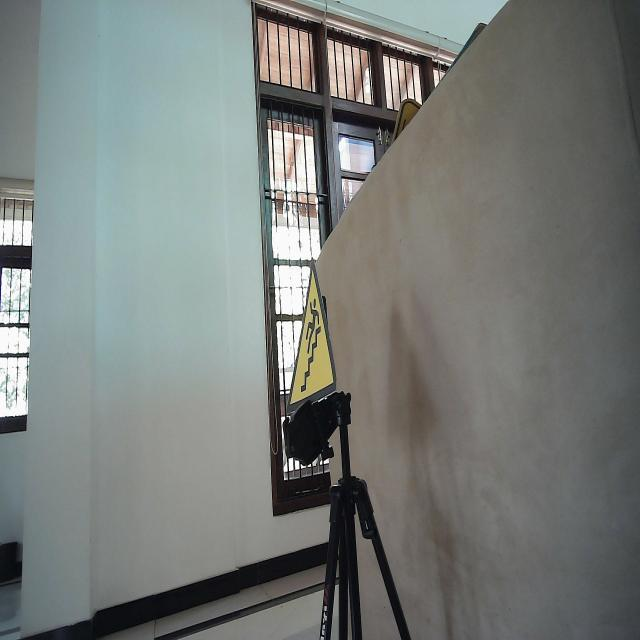stairs: (284, 256, 338, 420)
